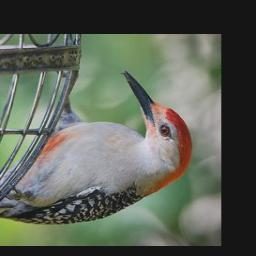Woodpecker: (0, 71, 192, 226)
